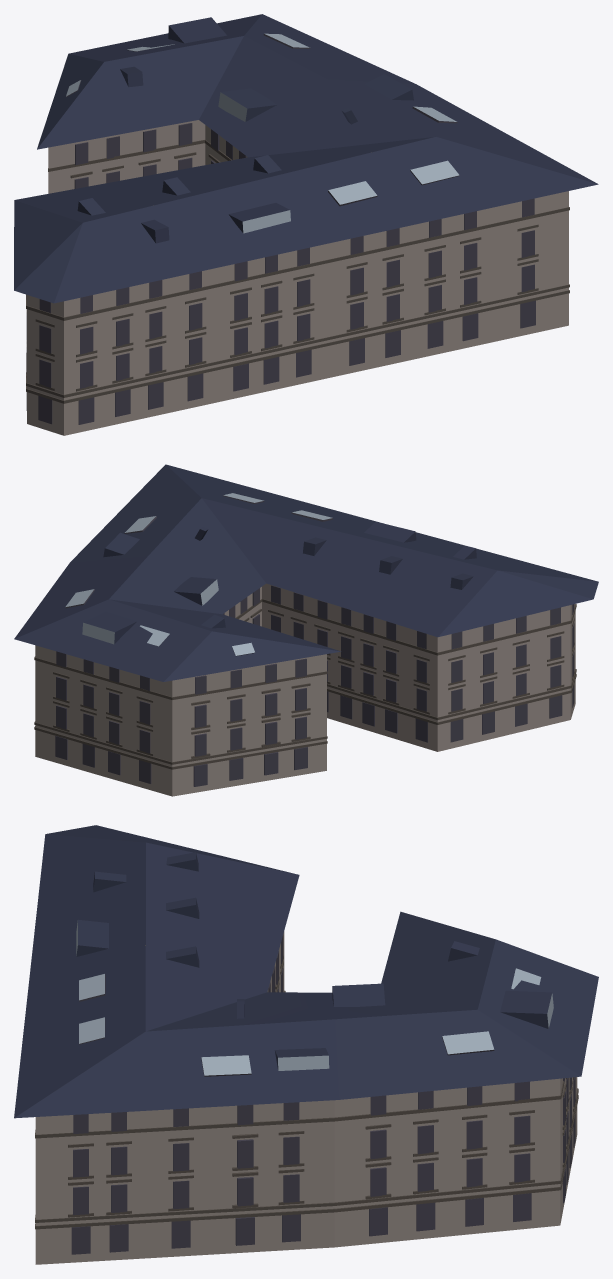
The model's file is Building_01.fbx.
3 renders of one model, top to bottom at view 1: azimuth 30°, elevation 25°; view 2: azimuth 150°, elevation 25°; view 3: azimuth 270°, elevation 25°, orthographic. The views are drawn at different scales.
Parts seen in each view (by area): view 1: Building_01; view 2: Building_01; view 3: Building_01.
Boxes of the visible parts, bbox=[...] form: Building_01: bbox=[14, 14, 598, 435]; Building_01: bbox=[14, 464, 598, 796]; Building_01: bbox=[14, 825, 598, 1264].
Bounding box in the file's own units: 44.49 × 13.89 × 37.52.
